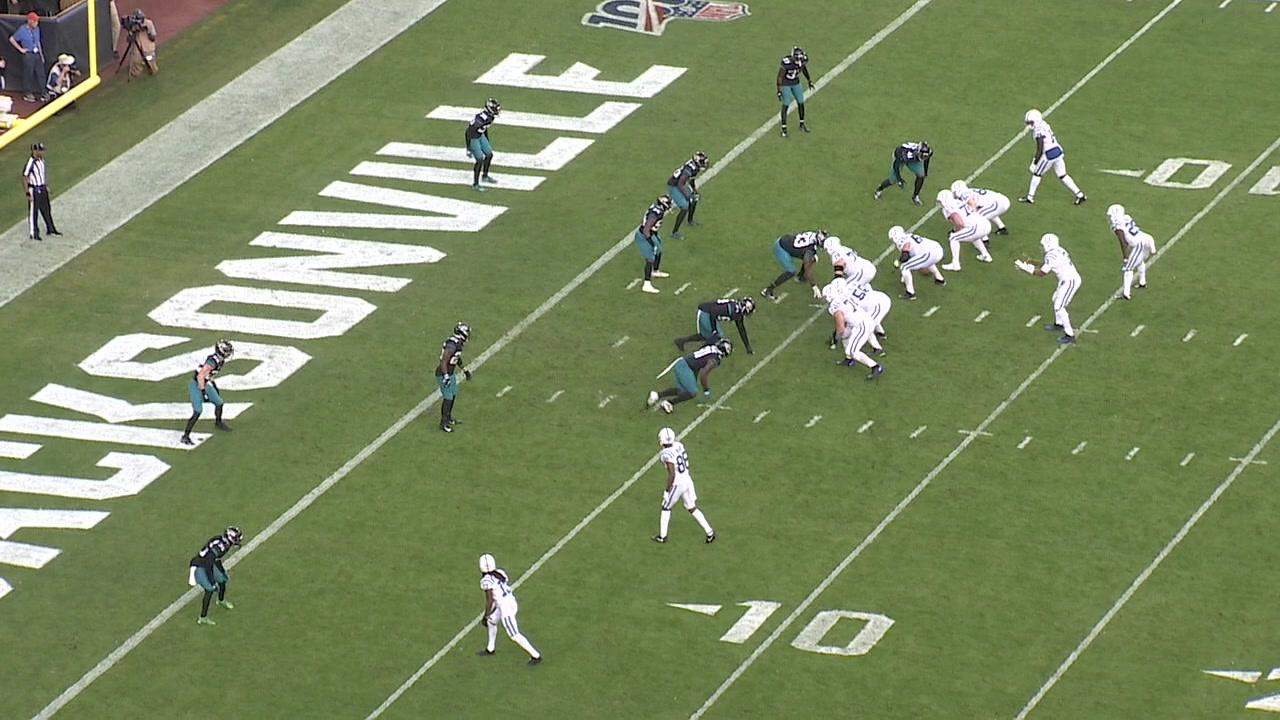defense: (644, 332, 738, 417), (183, 519, 249, 633), (177, 337, 239, 447), (429, 315, 479, 437), (673, 293, 760, 359), (761, 225, 831, 305), (871, 136, 938, 208), (663, 148, 713, 244), (773, 43, 819, 142), (633, 191, 675, 299), (463, 94, 506, 196)
oline: (821, 285, 886, 388), (935, 187, 997, 275), (829, 277, 893, 361), (886, 223, 949, 303), (822, 233, 879, 295)
qb: (1013, 232, 1089, 351)
ref: (20, 141, 67, 249)
skill: (471, 547, 545, 669), (651, 424, 720, 549), (1016, 103, 1090, 214), (1104, 200, 1158, 307), (951, 176, 1014, 248)
